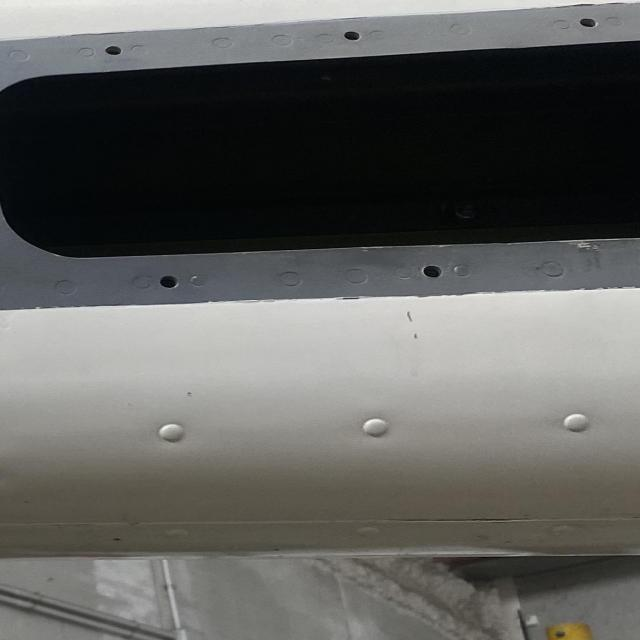Paint-off: (411, 328, 421, 344), (405, 309, 415, 324)
